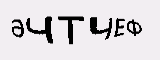А: (79, 27, 106, 57)
Д: (63, 25, 81, 56)
Н: (105, 27, 137, 56)
О: (23, 24, 42, 44)
Я: (43, 24, 63, 49)
